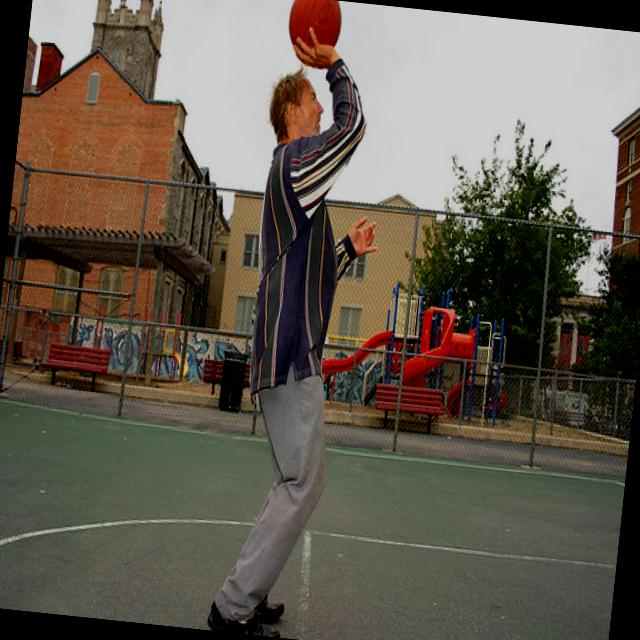Vehicle: (552, 391, 588, 428)
